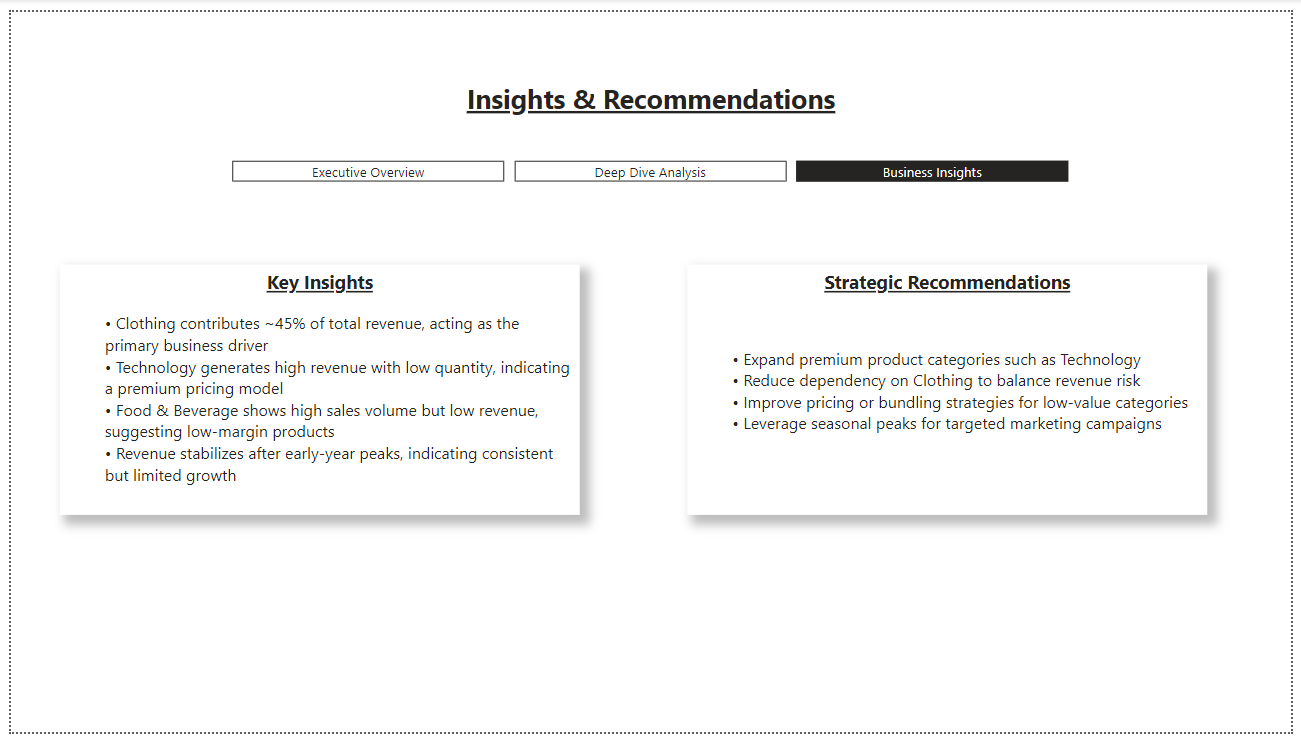

The page's visual inventory and layout, read from the dashboard file:
{"tool":"powerbi","page":{"name":"Business Insights","canvas":[1280,720],"ordinal":2},"visuals":[{"type":"textbox","box":[48.8,252.5,520,250],"z":0},{"type":"textbox","box":[676.2,252.5,520,250],"z":1000},{"type":"textbox","box":[380,63.8,520,50],"z":2000},{"type":"pageNavigator","box":[221.2,148.8,837.5,21.2],"z":3000}]}

Visuals, with their boxes in screenshot pixels (x1, y1, x2, y2), scaled from the page's 1280x720 canvas onto the 1301x742 screenshot:
textbox: detection(50, 260, 578, 518)
textbox: detection(687, 260, 1216, 518)
textbox: detection(386, 66, 915, 117)
pageNavigator: detection(225, 153, 1076, 175)
